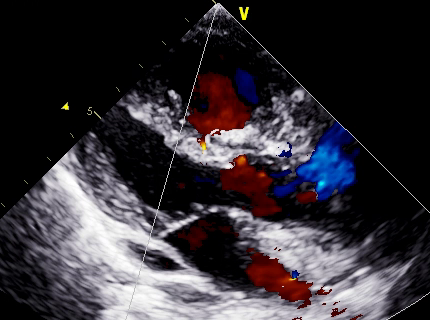AR: (206, 158, 322, 219)
